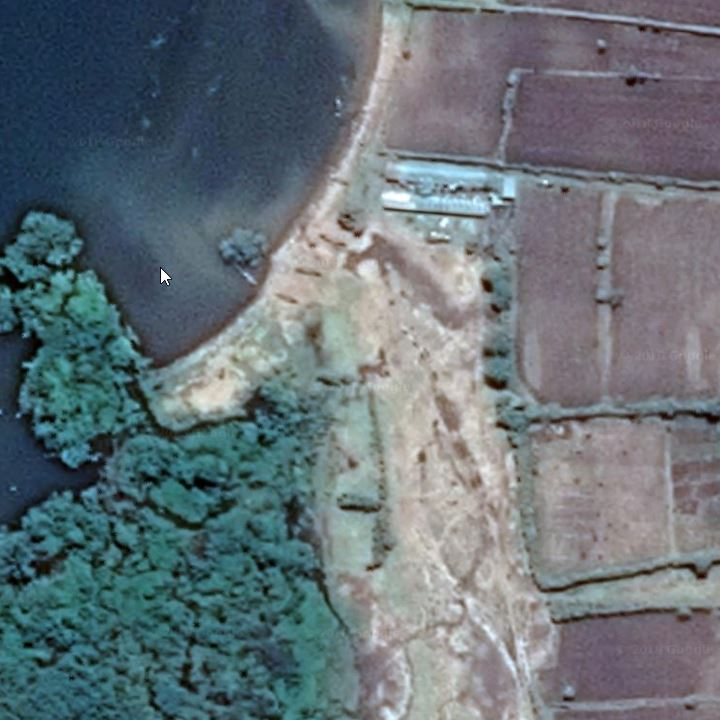boat: (269, 290, 305, 311), (317, 229, 351, 251), (232, 267, 262, 290), (288, 264, 326, 282)
